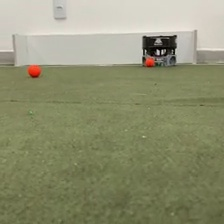ball: (27, 62, 41, 78), (144, 56, 155, 68)
goal: (10, 26, 199, 68)
robot: (141, 32, 178, 68)
